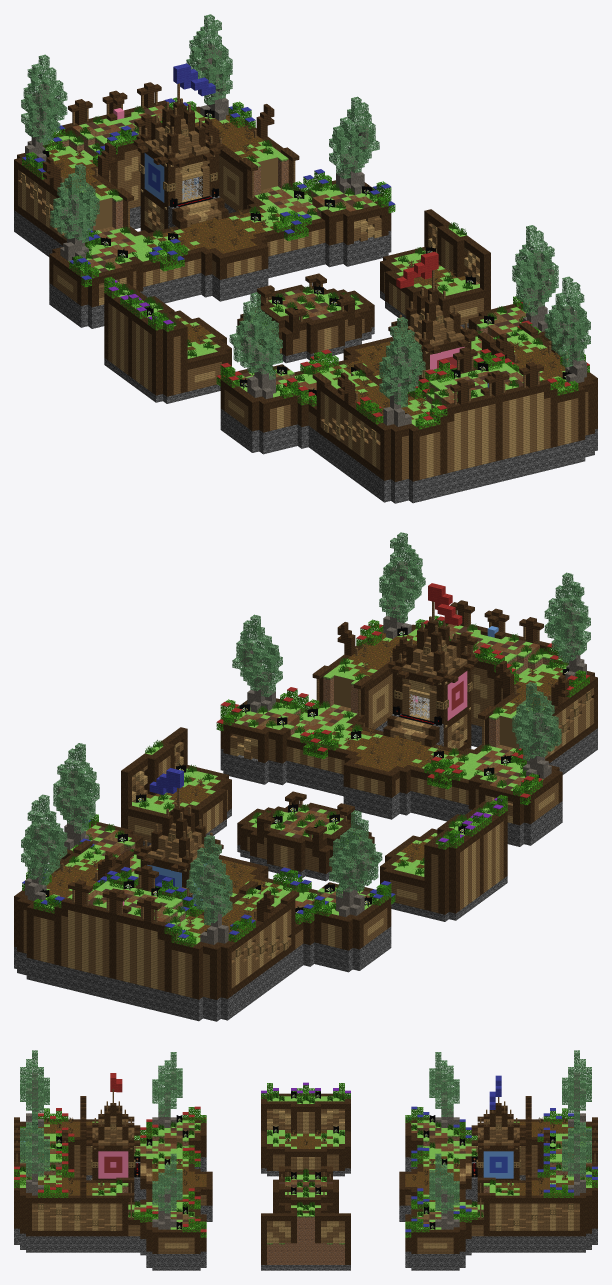
Rendered from minecraft.obj.
The picture shows the model from 3 angles, top to bottom: view 1: azimuth 30°, elevation 25°; view 2: azimuth 150°, elevation 25°; view 3: azimuth 270°, elevation 25°; orthographic projection. The views are drawn at different scales.
Bounding box in the file's own units: 48 × 25 × 97.
